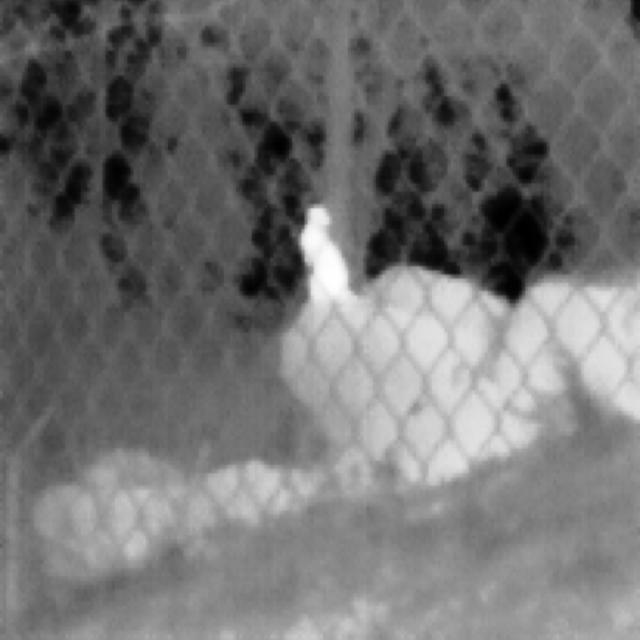cheetah: (302, 208, 349, 302)
